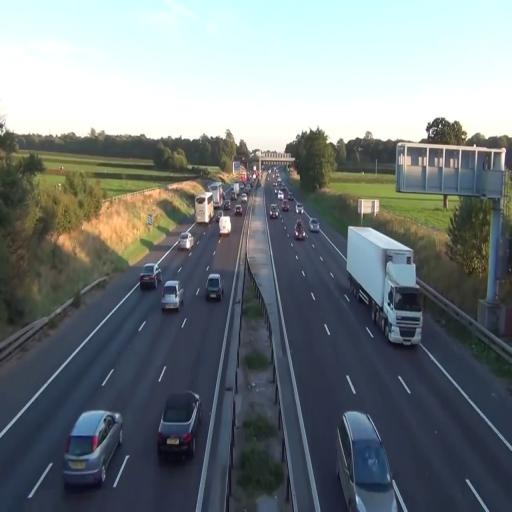vehicle: (346, 223, 424, 346), (336, 410, 405, 512), (62, 409, 124, 488), (157, 390, 201, 459), (160, 279, 182, 312), (139, 265, 159, 291), (206, 272, 222, 302), (180, 231, 194, 250), (219, 216, 231, 236), (268, 203, 280, 220), (310, 218, 319, 231)
